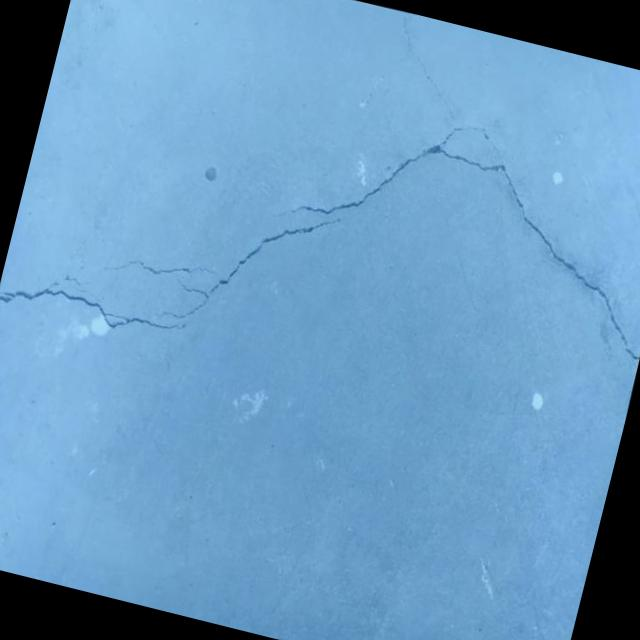crack: (260, 79, 640, 367), (151, 176, 349, 357), (0, 266, 191, 349), (383, 14, 476, 120), (99, 242, 220, 300), (64, 273, 90, 288)
